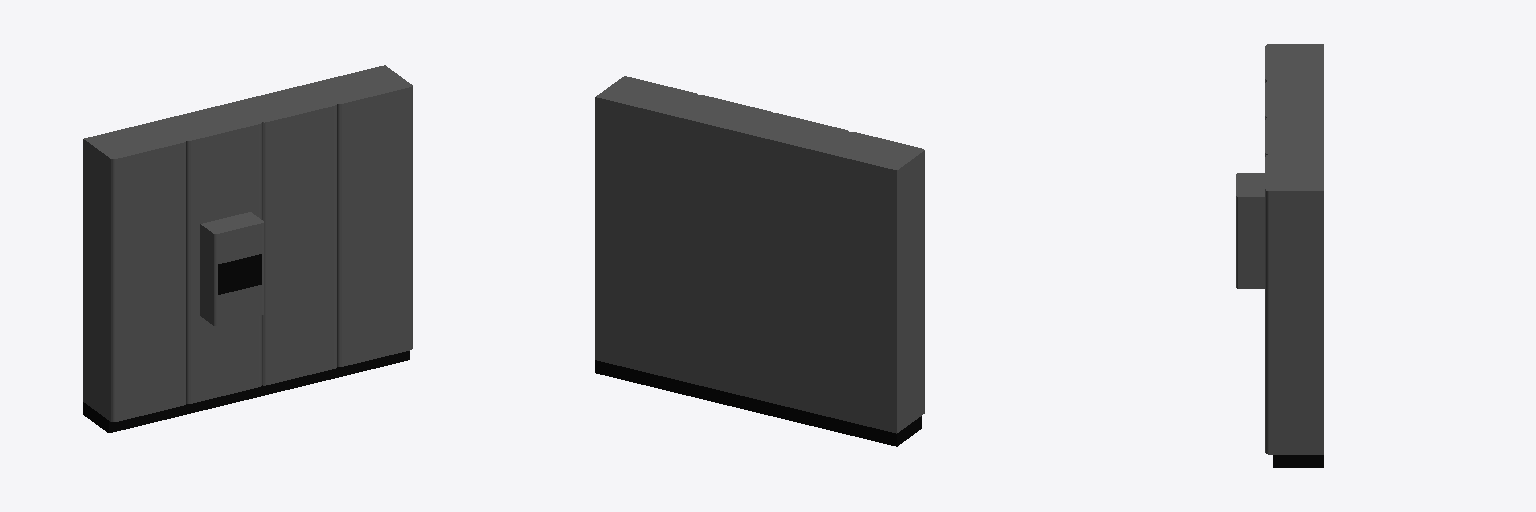
Rendered from electrical_box.obj.
3 views of the same model, side by side, from view 1: azimuth 30°, elevation 25°; view 2: azimuth 150°, elevation 25°; view 3: azimuth 270°, elevation 25° (orthographic).
Visible parts, largest first — view 1: Cube, Cube.003, Cube.002, Cube.001, Cube.004, Cube.005; view 2: Cube, Cube.001, Cube.003, Cube.002, Cube.005; view 3: Cube.003, Cube.004, Cube, Cube.002, Cube.001, Cube.005.
Part boxes in pixels (bbox=[...]): Cube: bbox=[83, 120, 185, 421]; Cube.003: bbox=[310, 65, 412, 366]; Cube.002: bbox=[235, 84, 336, 385]; Cube.001: bbox=[159, 102, 261, 403]; Cube.004: bbox=[200, 212, 263, 325]; Cube.005: bbox=[83, 351, 409, 432]; Cube: bbox=[822, 132, 924, 433]; Cube.001: bbox=[746, 113, 848, 414]; Cube.003: bbox=[595, 76, 697, 377]; Cube.002: bbox=[671, 95, 773, 396]; Cube.005: bbox=[595, 360, 921, 446]; Cube.003: bbox=[1265, 155, 1323, 454]; Cube.004: bbox=[1236, 173, 1264, 288]; Cube: bbox=[1265, 44, 1323, 82]; Cube.002: bbox=[1265, 118, 1323, 156]; Cube.001: bbox=[1265, 81, 1323, 119]; Cube.005: bbox=[1273, 455, 1323, 467].
Bounding box in the file's own units: 2.4 × 2.1 × 0.6.